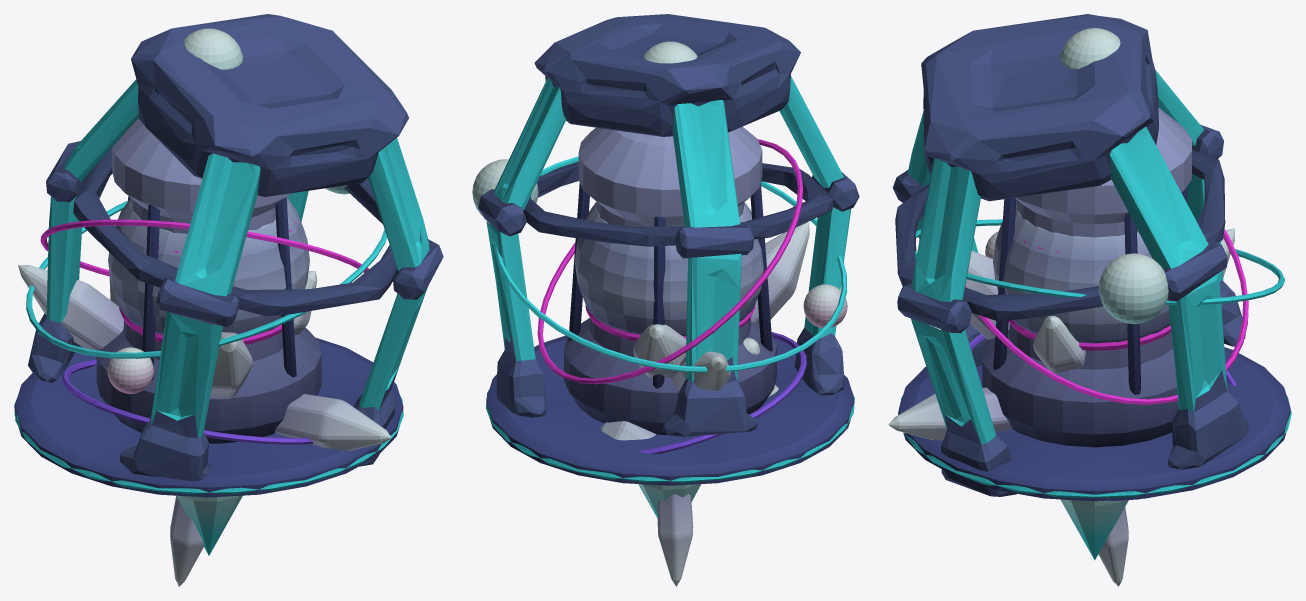
The model's file is core-s8-edFi3H0-.glb.
3 renders of one model, left to right at view 1: azimuth 30°, elevation 25°; view 2: azimuth 150°, elevation 25°; view 3: azimuth 270°, elevation 25°, orthographic. The views are drawn at different scales.
Visible parts, largest first — view 1: sc_z0_3, sc_z3_3, sc_z2_3, sc_z1_2; view 2: sc_z0_3, sc_z3_3, sc_z2_3, sc_z1_2; view 3: sc_z0_3, sc_z3_3, sc_z2_3, sc_z1_2.
Part boxes in pixels (<box>): sc_z0_3: <box>14,14,443,555</box>; sc_z3_3: <box>96,28,321,443</box>; sc_z2_3: <box>26,185,387,393</box>; sc_z1_2: <box>18,265,391,586</box>; sc_z0_3: <box>478,14,859,518</box>; sc_z3_3: <box>564,41,776,434</box>; sc_z2_3: <box>472,139,847,384</box>; sc_z1_2: <box>601,222,809,586</box>; sc_z0_3: <box>893,14,1291,560</box>; sc_z3_3: <box>982,28,1191,447</box>; sc_z2_3: <box>914,199,1284,404</box>; sc_z1_2: <box>888,228,1236,586</box>.
Size of the model in its own units: 10.52 by 15.89 by 10.3.
